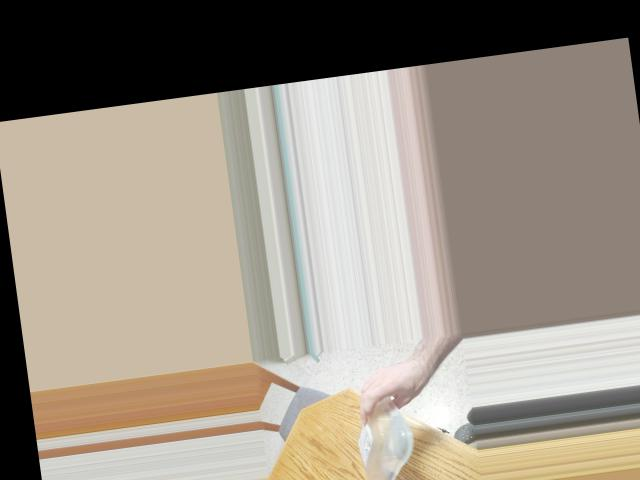cheese: (348, 378, 414, 480)
